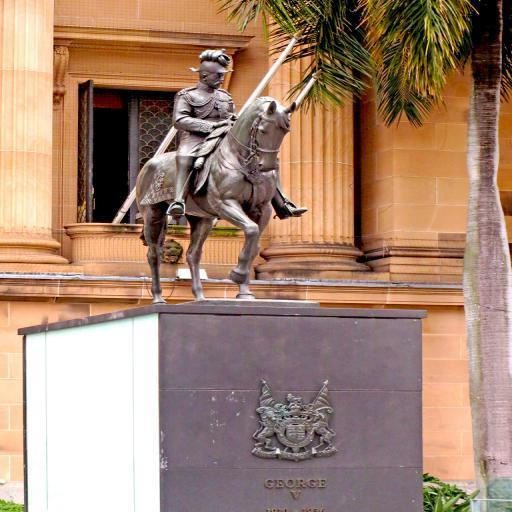horse: (132, 94, 296, 306)
